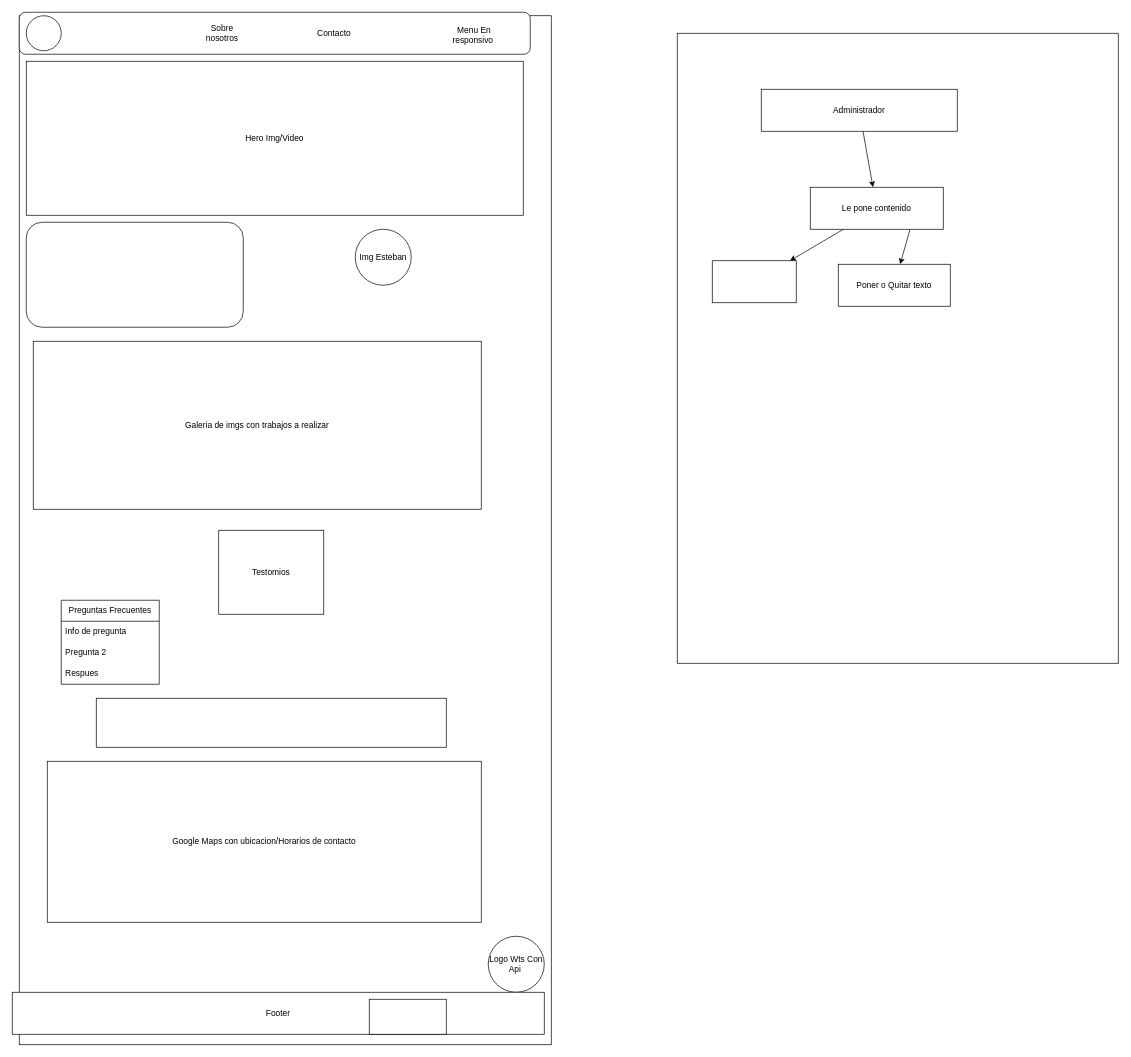
The diagram is 1131 pixels wide and 1057 high, and some of its shapes have lost their labels. Each missing label, with the centre of its shape:
Contacto con formulario: pixel 271 722
El video Hero: pixel 754 281
Historia: pixel 134 274
Logo: pixel 43 33
Redes Sociales: pixel 407 1016
